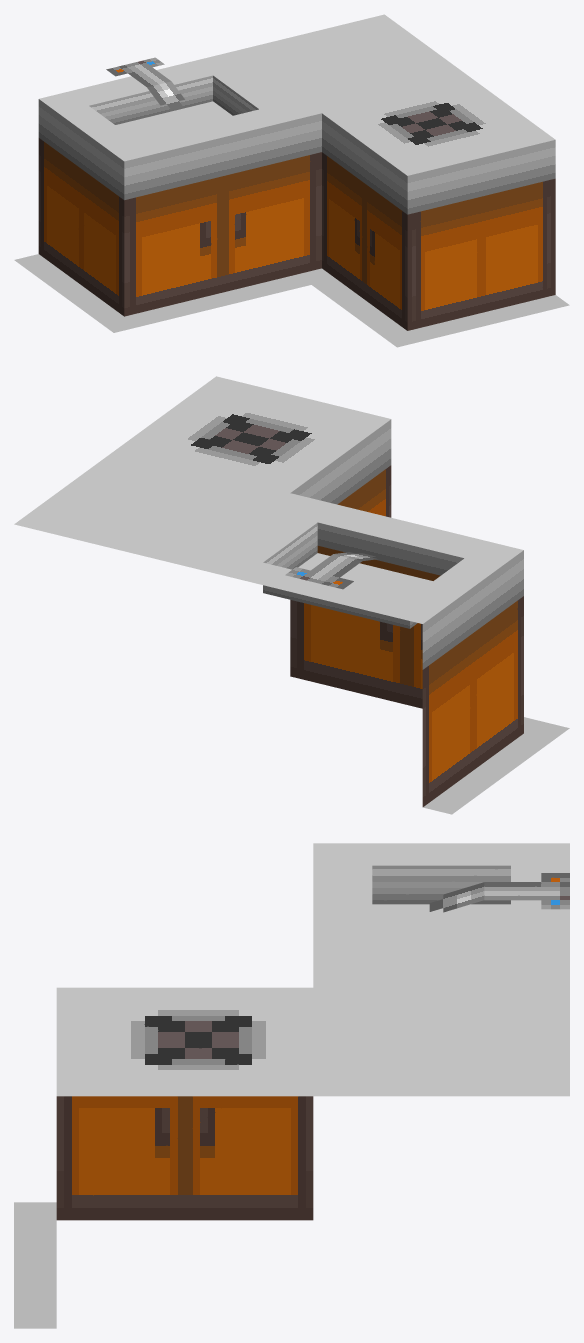
3 views of the same model, one above another, from view 1: azimuth 30°, elevation 25°; view 2: azimuth 150°, elevation 25°; view 3: azimuth 270°, elevation 25° (orthographic). The views are drawn at different scales.
Visible parts, largest first — view 1: polygon0, polygon1; view 2: polygon0, polygon1; view 3: polygon0, polygon1.
Boxes of the visible parts, left/top/right/bottom form: polygon0: left=38, top=14, right=555, bottom=330; polygon1: left=14, top=254, right=569, bottom=347; polygon0: left=14, top=376, right=523, bottom=806; polygon1: left=423, top=717, right=569, bottom=814; polygon0: left=56, top=843, right=569, bottom=1220; polygon1: left=14, top=1202, right=56, bottom=1328.
Size of the model in its own units: 7.5 by 3.25 by 6.5.
